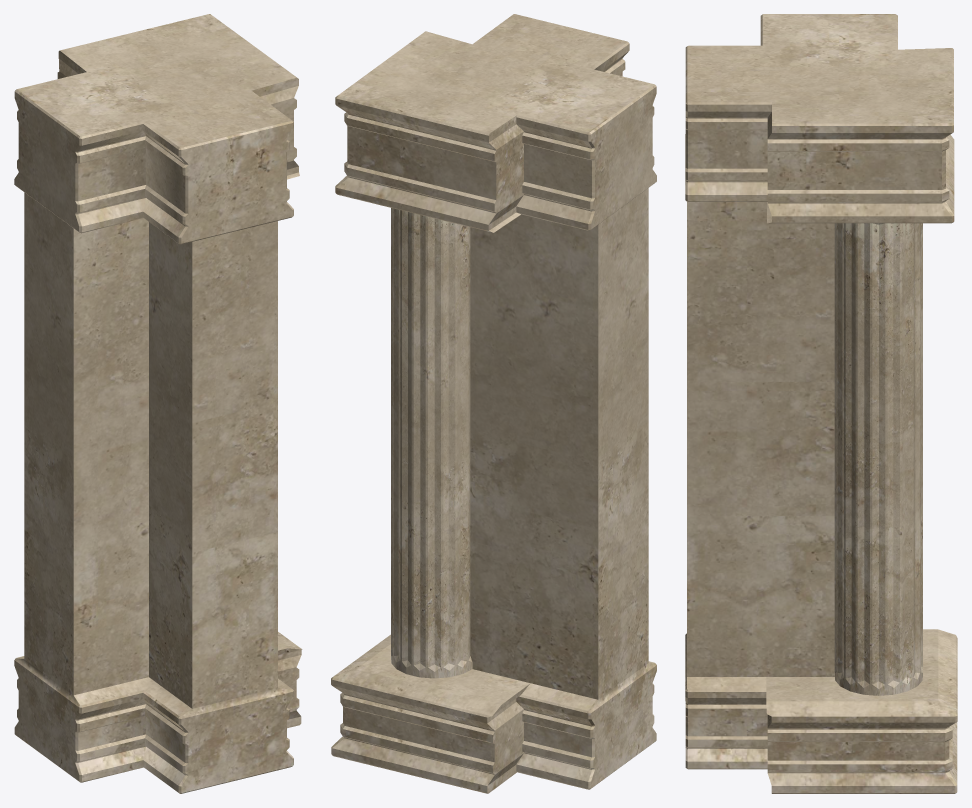
Rendered from wall_corner.FBX.
3 renders of one model, left to right at view 1: azimuth 30°, elevation 25°; view 2: azimuth 150°, elevation 25°; view 3: azimuth 270°, elevation 25°, orthographic. The views are drawn at different scales.
Visible parts, largest first — view 1: column_L034; view 2: column_L034; view 3: column_L034.
Part boxes in pixels (box(x1,y1,x2,y2)): column_L034: box(14, 14, 302, 793); column_L034: box(331, 14, 656, 793); column_L034: box(685, 14, 957, 793).
Size of the model in its own units: 127 by 347 by 128.
